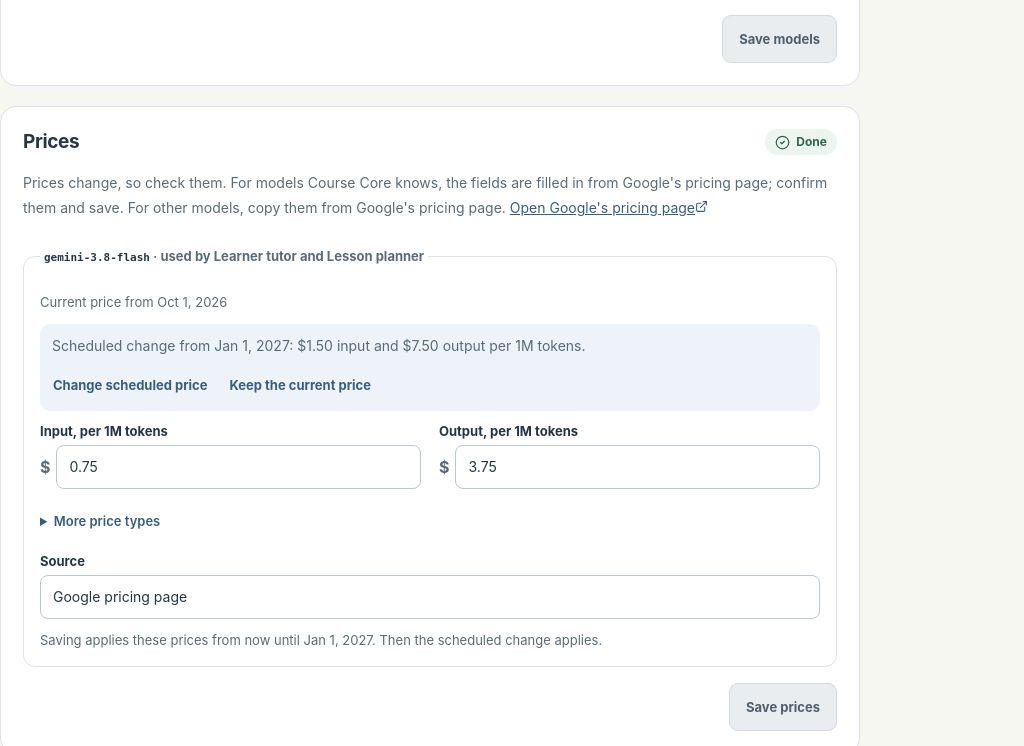
Test: a price change already scheduled › changes the scheduled price in a dialog that says what will happen, and replaces it at its exact time
(page scrolled)
Click the button "Change scheduled price" at {"x": 130, "y": 385}, box [52, 363, 208, 407]
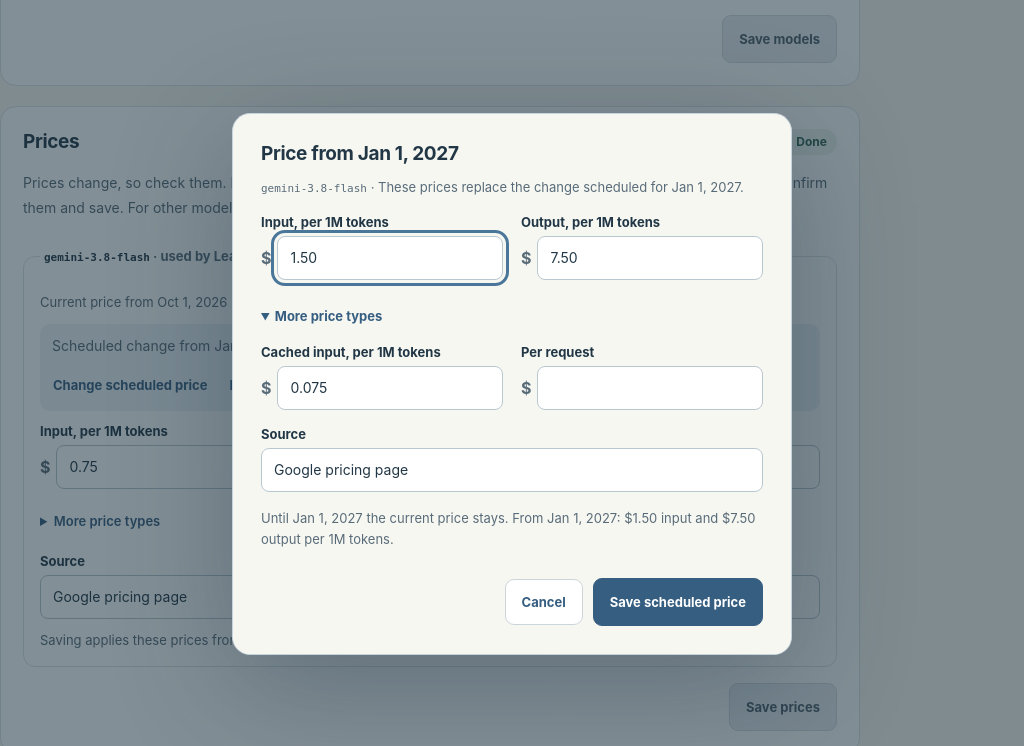
# Validated before anything is sent.
Clear the field labelled "Output, per 1M tokens" at {"x": 650, "y": 258}, box [538, 236, 763, 280]
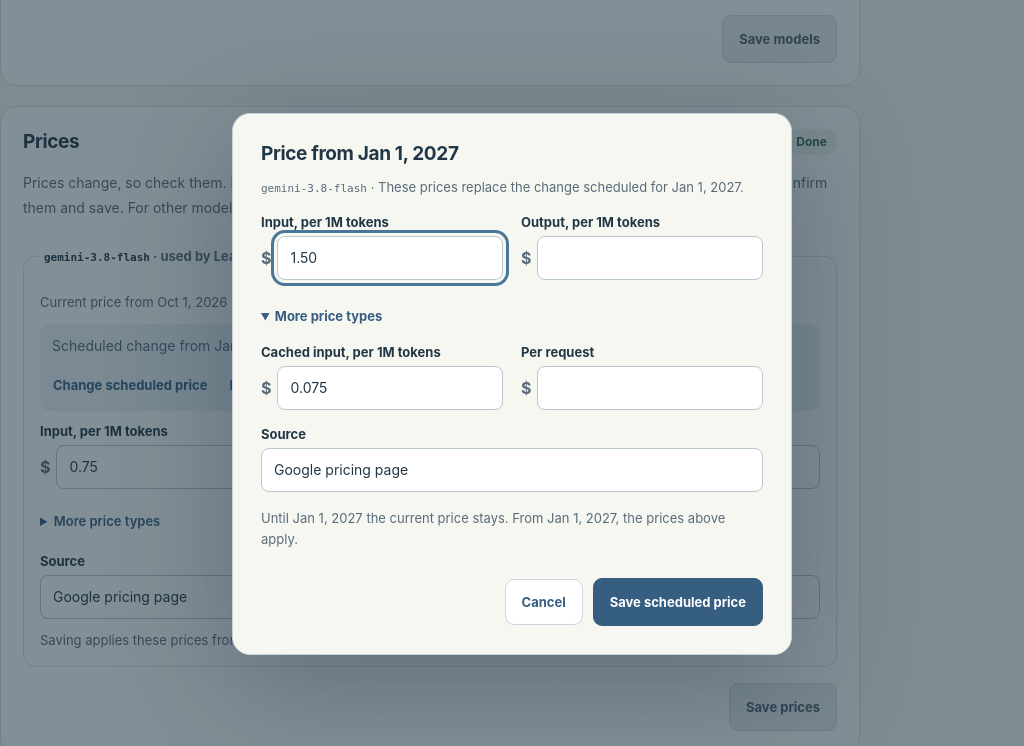
Click the button "Save scheduled price" at {"x": 678, "y": 602}, box [593, 578, 763, 626]
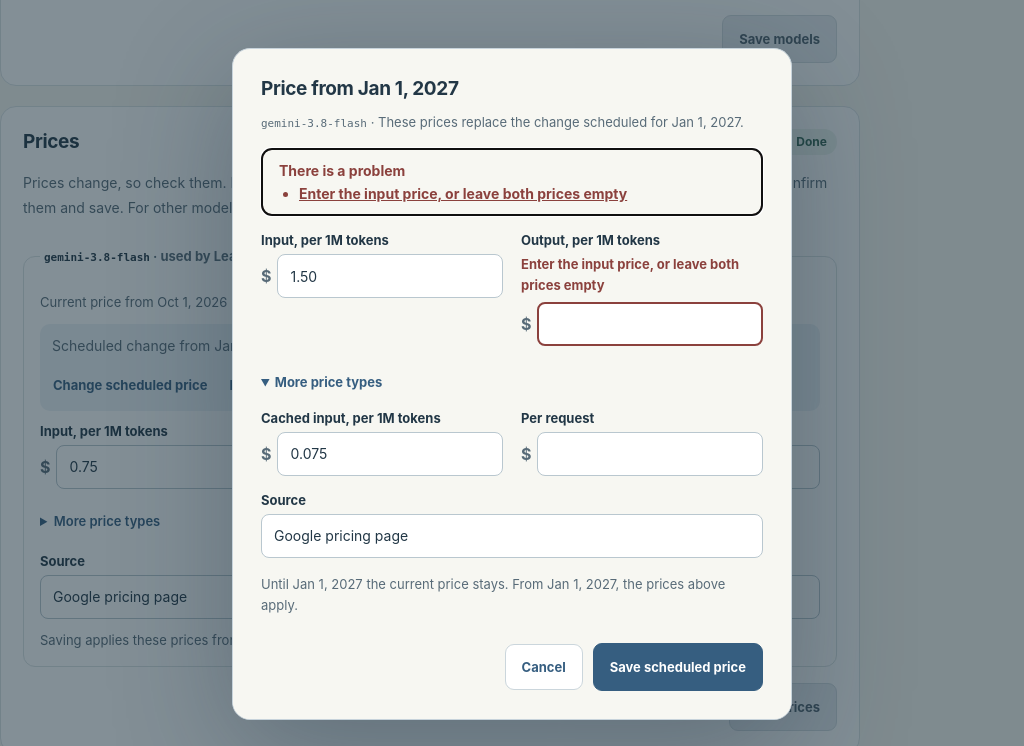
Type "6.00" into the field labelled "Output, per 1M tokens" at {"x": 650, "y": 324}, box [538, 302, 763, 346]
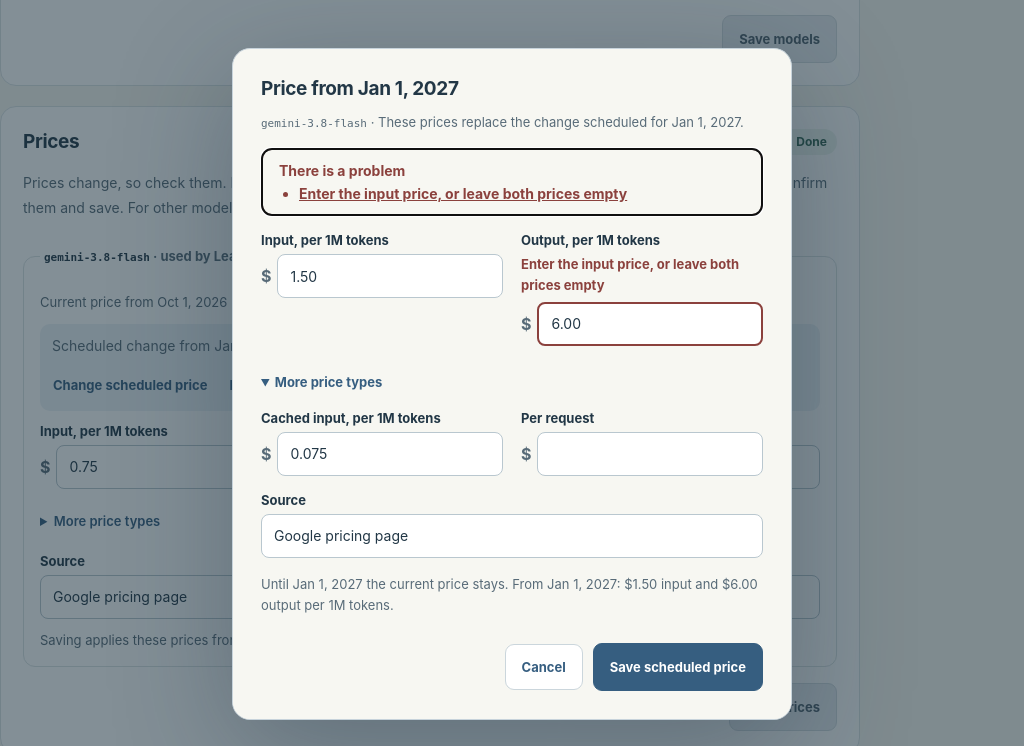
Replace the text in the field labelled "Input, per 1M tokens" with "1.20" at {"x": 390, "y": 276}, box [278, 254, 503, 298]
# A refused start date is explained with its limits, inside the dialog.
Click the button "Save scheduled price" at {"x": 678, "y": 667}, box [593, 643, 763, 691]
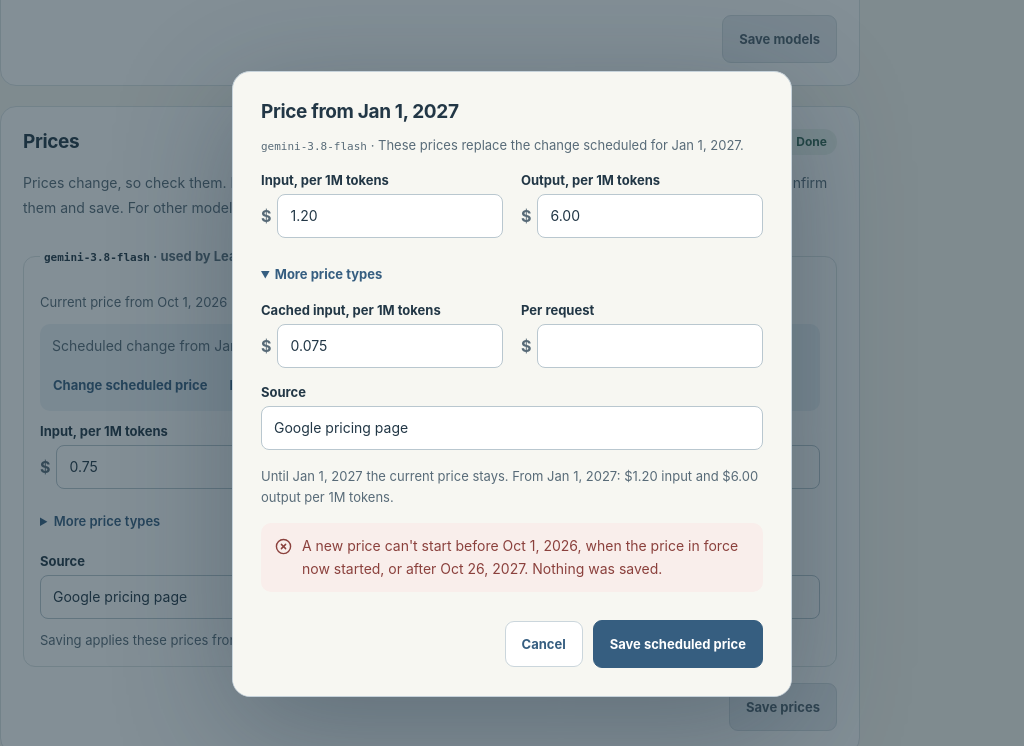
Click the button "Save scheduled price" at {"x": 678, "y": 644}, box [593, 620, 763, 668]
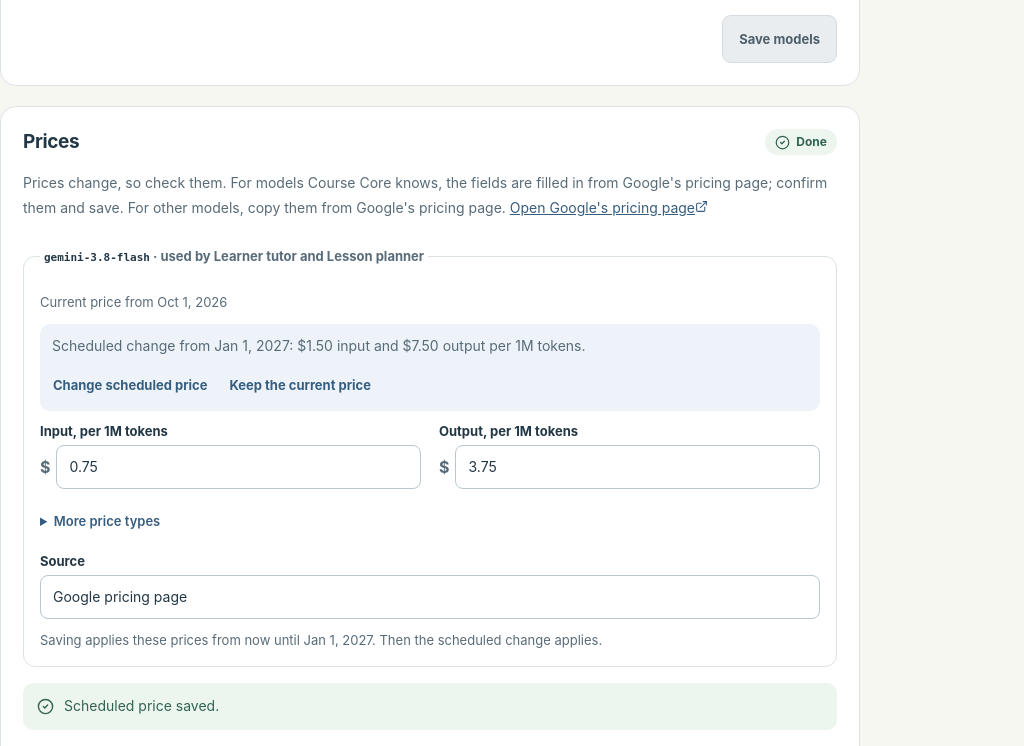
Result: the text "Scheduled price saved." is shown at [64, 696, 219, 718]
Result: the dialog is gone
